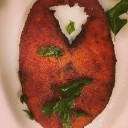seerfish: (19, 1, 116, 128)
